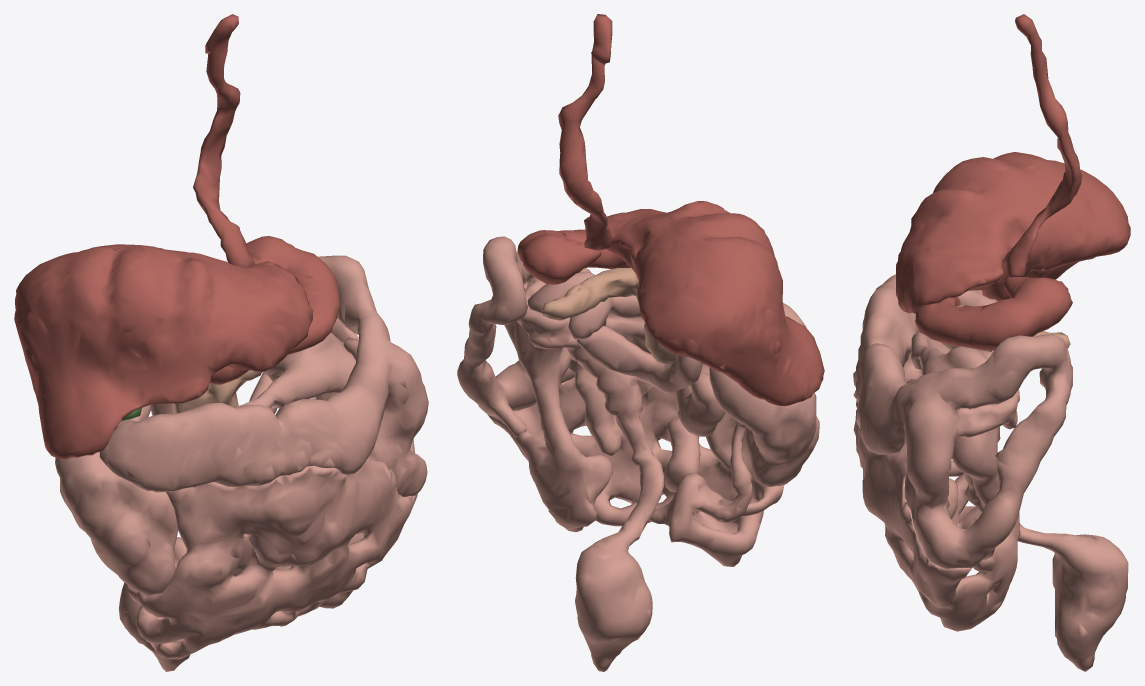
File: tsd_s0196_older_adult_female.digestive.LOD3.glb
3 renders of one model, left to right at view 1: azimuth 30°, elevation 25°; view 2: azimuth 150°, elevation 25°; view 3: azimuth 270°, elevation 25°, orthographic. The views are drawn at different scales.
Visible parts, largest first — view 1: TSD_S0196.OLDER_ADULT.FEMALE.DIGESTIVE.COLON, TSD_S0196.OLDER_ADULT.FEMALE.DIGESTIVE.LIVER, TSD_S0196.OLDER_ADULT.FEMALE.DIGESTIVE.SMALL_BOWEL_JEJUNUM_A, TSD_S0196.OLDER_ADULT.FEMALE.DIGESTIVE.ESOPHAGUS, TSD_S0196.OLDER_ADULT.FEMALE.DIGESTIVE.STOMACH, TSD_S0196.OLDER_ADULT.FEMALE.DIGESTIVE.PANCREAS; view 2: TSD_S0196.OLDER_ADULT.FEMALE.DIGESTIVE.SMALL_BOWEL_JEJUNUM_A, TSD_S0196.OLDER_ADULT.FEMALE.DIGESTIVE.COLON, TSD_S0196.OLDER_ADULT.FEMALE.DIGESTIVE.LIVER, TSD_S0196.OLDER_ADULT.FEMALE.DIGESTIVE.ESOPHAGUS, TSD_S0196.OLDER_ADULT.FEMALE.DIGESTIVE.STOMACH, TSD_S0196.OLDER_ADULT.FEMALE.DIGESTIVE.DUODENUM, TSD_S0196.OLDER_ADULT.FEMALE.DIGESTIVE.PANCREAS; view 3: TSD_S0196.OLDER_ADULT.FEMALE.DIGESTIVE.COLON, TSD_S0196.OLDER_ADULT.FEMALE.DIGESTIVE.LIVER, TSD_S0196.OLDER_ADULT.FEMALE.DIGESTIVE.SMALL_BOWEL_JEJUNUM_A, TSD_S0196.OLDER_ADULT.FEMALE.DIGESTIVE.STOMACH, TSD_S0196.OLDER_ADULT.FEMALE.DIGESTIVE.ESOPHAGUS, TSD_S0196.OLDER_ADULT.FEMALE.DIGESTIVE.DUODENUM.
Part boxes in pixels (bbox=[...]): TSD_S0196.OLDER_ADULT.FEMALE.DIGESTIVE.COLON: bbox=[55, 255, 428, 671]; TSD_S0196.OLDER_ADULT.FEMALE.DIGESTIVE.LIVER: bbox=[14, 244, 313, 459]; TSD_S0196.OLDER_ADULT.FEMALE.DIGESTIVE.SMALL_BOWEL_JEJUNUM_A: bbox=[118, 332, 417, 659]; TSD_S0196.OLDER_ADULT.FEMALE.DIGESTIVE.ESOPHAGUS: bbox=[193, 14, 255, 266]; TSD_S0196.OLDER_ADULT.FEMALE.DIGESTIVE.STOMACH: bbox=[210, 236, 340, 384]; TSD_S0196.OLDER_ADULT.FEMALE.DIGESTIVE.PANCREAS: bbox=[175, 370, 261, 413]; TSD_S0196.OLDER_ADULT.FEMALE.DIGESTIVE.SMALL_BOWEL_JEJUNUM_A: bbox=[488, 271, 784, 566]; TSD_S0196.OLDER_ADULT.FEMALE.DIGESTIVE.COLON: bbox=[457, 236, 819, 671]; TSD_S0196.OLDER_ADULT.FEMALE.DIGESTIVE.LIVER: bbox=[606, 201, 824, 406]; TSD_S0196.OLDER_ADULT.FEMALE.DIGESTIVE.ESOPHAGUS: bbox=[558, 14, 612, 250]; TSD_S0196.OLDER_ADULT.FEMALE.DIGESTIVE.STOMACH: bbox=[517, 229, 630, 284]; TSD_S0196.OLDER_ADULT.FEMALE.DIGESTIVE.DUODENUM: bbox=[577, 326, 702, 393]; TSD_S0196.OLDER_ADULT.FEMALE.DIGESTIVE.PANCREAS: bbox=[542, 267, 676, 364]; TSD_S0196.OLDER_ADULT.FEMALE.DIGESTIVE.COLON: bbox=[853, 274, 1128, 671]; TSD_S0196.OLDER_ADULT.FEMALE.DIGESTIVE.LIVER: bbox=[896, 152, 1130, 313]; TSD_S0196.OLDER_ADULT.FEMALE.DIGESTIVE.SMALL_BOWEL_JEJUNUM_A: bbox=[853, 332, 1020, 631]; TSD_S0196.OLDER_ADULT.FEMALE.DIGESTIVE.STOMACH: bbox=[915, 277, 1072, 350]; TSD_S0196.OLDER_ADULT.FEMALE.DIGESTIVE.ESOPHAGUS: bbox=[1006, 14, 1081, 277]; TSD_S0196.OLDER_ADULT.FEMALE.DIGESTIVE.DUODENUM: bbox=[958, 290, 996, 351].
Bounding box in the file's own units: 0.2883 × 0.5014 × 0.1884.
